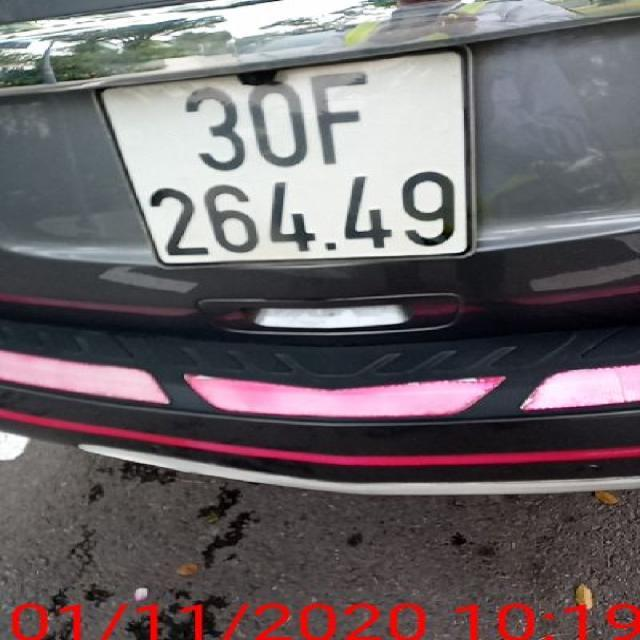bien_so_oto: (90, 43, 482, 271)
